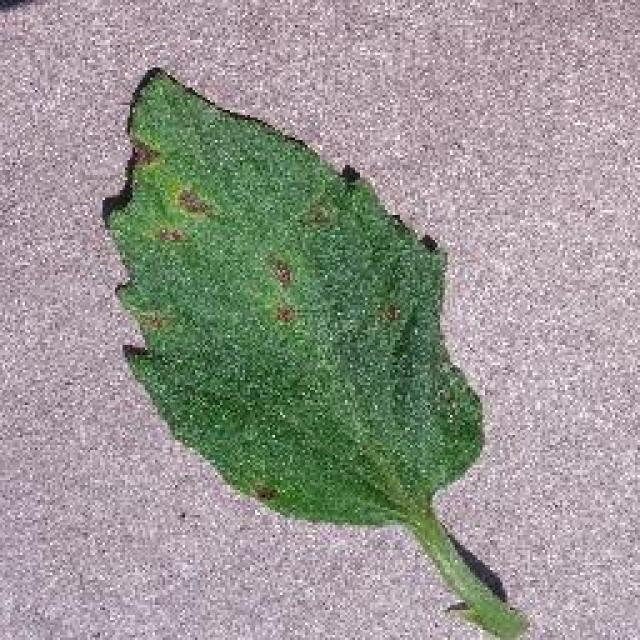Tomato___Septoria_leaf_spot: (108, 70, 525, 638)
